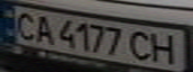1: (72, 20, 90, 52)
4: (54, 17, 75, 48)
7: (103, 25, 127, 57), (87, 22, 106, 54)
A: (30, 12, 57, 44)
C: (9, 9, 42, 40), (127, 28, 157, 62)
H: (148, 29, 184, 65)
